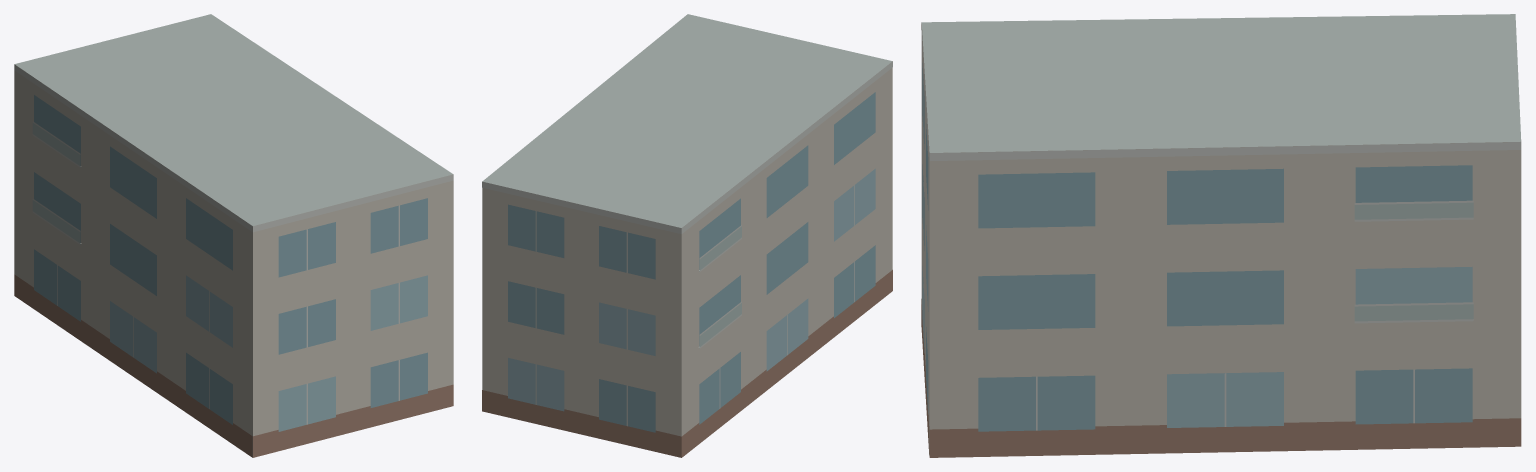
File: survey-upis-32716638.glb
3 renders of one model, left to right at view 1: azimuth 30°, elevation 25°; view 2: azimuth 150°, elevation 25°; view 3: azimuth 270°, elevation 25°, orthographic. The views are drawn at different scales.
Visible parts, largest first — view 1: survey-upis-32716638.tmp; view 2: survey-upis-32716638.tmp; view 3: survey-upis-32716638.tmp.
Boxes of the visible parts, left/top/right/bottom form: survey-upis-32716638.tmp: left=14, top=14, right=453, bottom=457; survey-upis-32716638.tmp: left=482, top=14, right=892, bottom=457; survey-upis-32716638.tmp: left=921, top=14, right=1521, bottom=457.
Bounding box in the file's own units: 8.96 × 9.15 × 16.32.
